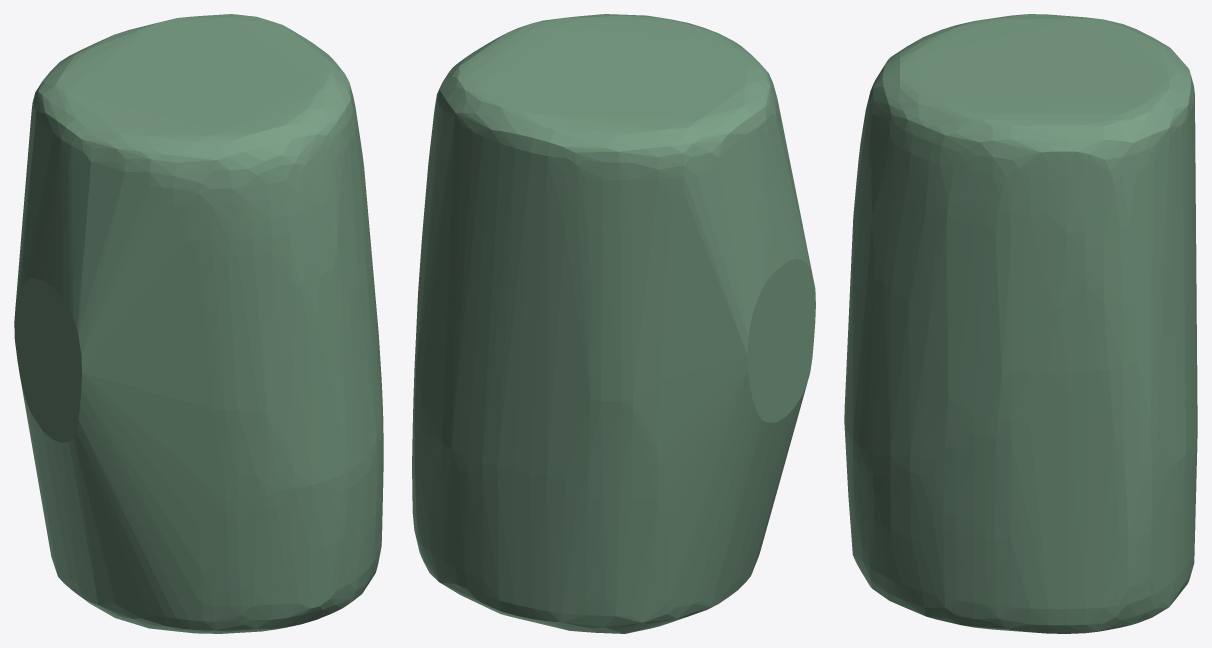
3 views of the same model, side by side, from view 1: azimuth 30°, elevation 25°; view 2: azimuth 150°, elevation 25°; view 3: azimuth 270°, elevation 25° (orthographic).
Bounding box in the file's own units: 0.0596 × 0.0896 × 0.0566.
